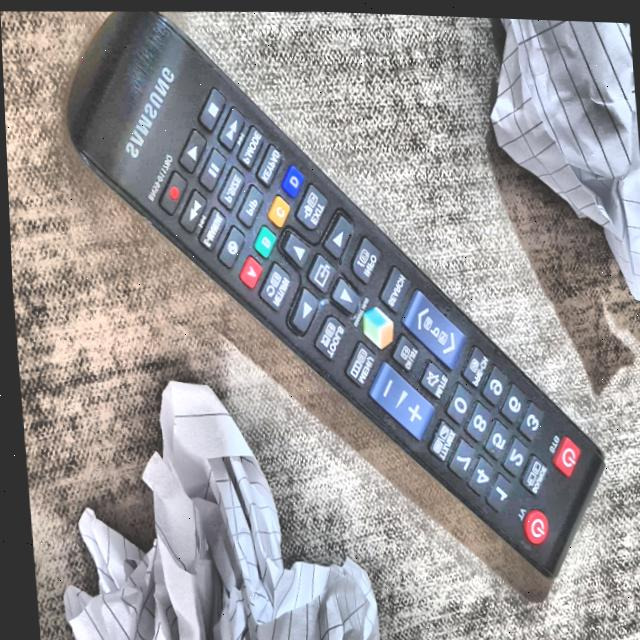paper: (24, 361, 371, 640), (479, 14, 640, 315)
